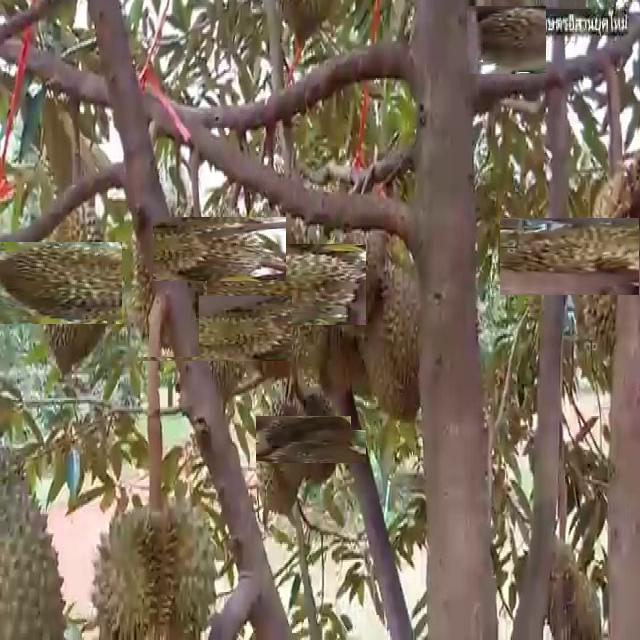durian: (86, 488, 224, 636), (10, 215, 147, 352), (530, 187, 640, 326), (226, 225, 347, 345), (1, 434, 71, 638), (122, 192, 199, 357), (351, 259, 424, 430), (160, 274, 269, 383), (170, 200, 268, 298), (327, 220, 393, 347), (250, 395, 310, 519), (272, 399, 351, 478), (469, 3, 543, 77)
